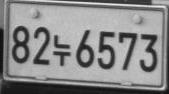2: (32, 25, 51, 65)
3: (139, 33, 158, 73)
5: (96, 30, 116, 70)
6: (75, 28, 95, 68)
7: (118, 31, 138, 70)
8: (10, 24, 31, 63)
누: (52, 34, 72, 67)
